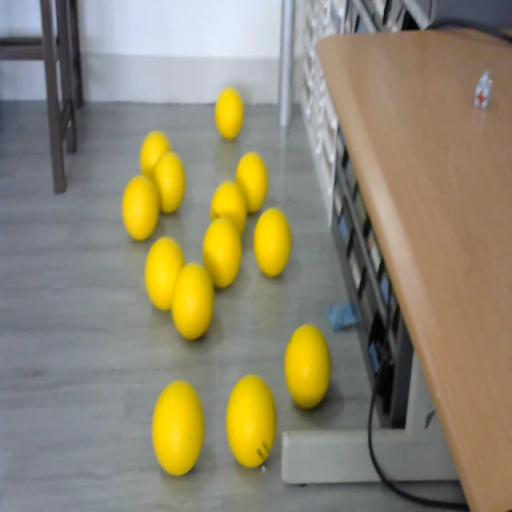FUEL: (151, 378, 205, 475), (225, 373, 277, 467), (283, 322, 331, 410), (170, 262, 216, 341), (202, 216, 243, 288), (252, 206, 292, 278), (122, 175, 160, 240), (152, 149, 186, 214), (236, 152, 268, 212), (214, 87, 244, 140)
